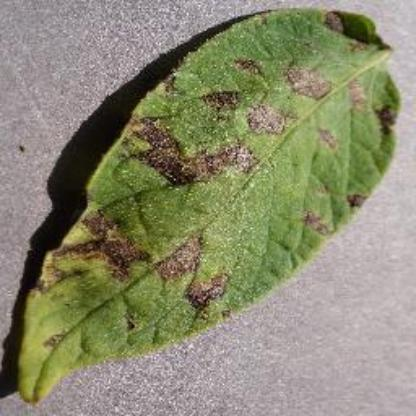Early-Blight: (13, 6, 401, 402)
